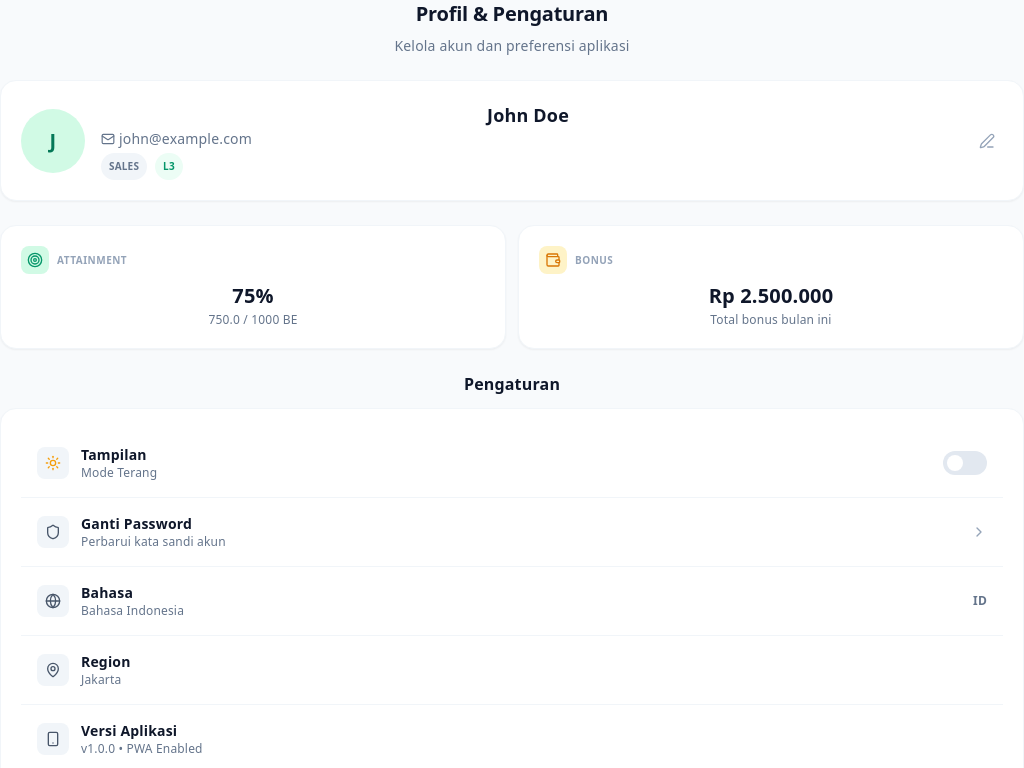
Scenario: ProfileView › ✅ Edit Name › updates name successfully
expect the heading "John Doe" is shown: met, box [487,103,569,127]
Click the 1st button at (987, 141), box [971,125,1003,157]
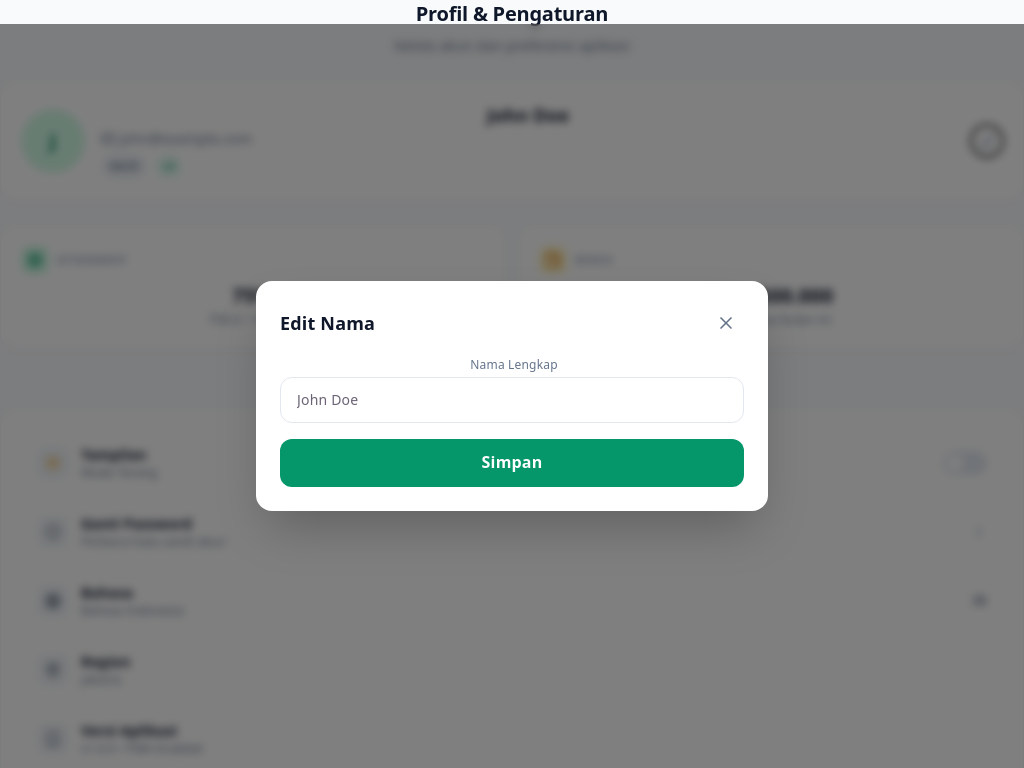
Replace the text in the field with placeholder "Masukkan nama" with "Jane Doe" at (512, 400), box [280,377,744,423]
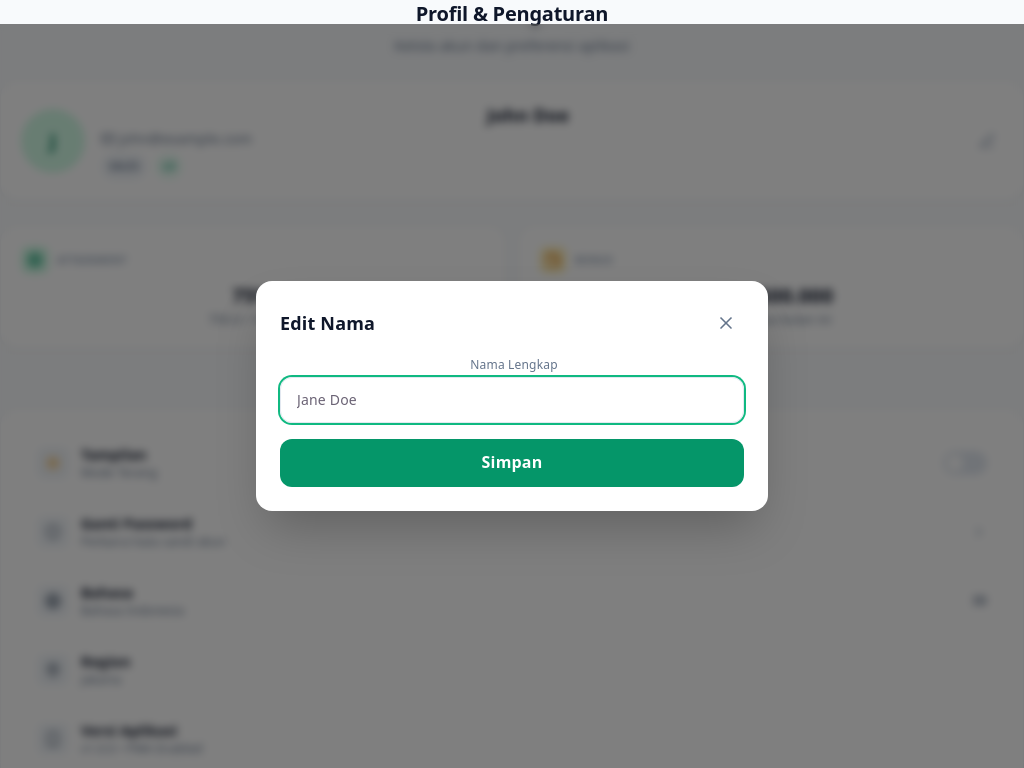
Click the button "Simpan" at (512, 463), box [280,439,744,487]
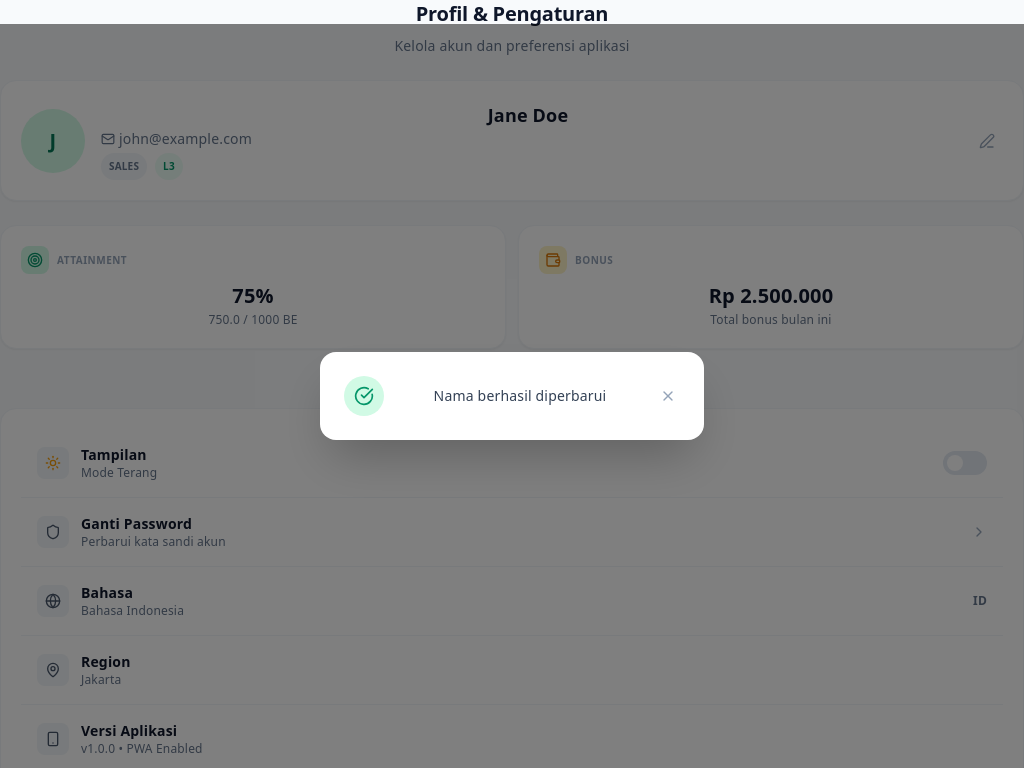
expect the text "Nama berhasil diperbarui" is shown: met, box [434,386,606,405]
